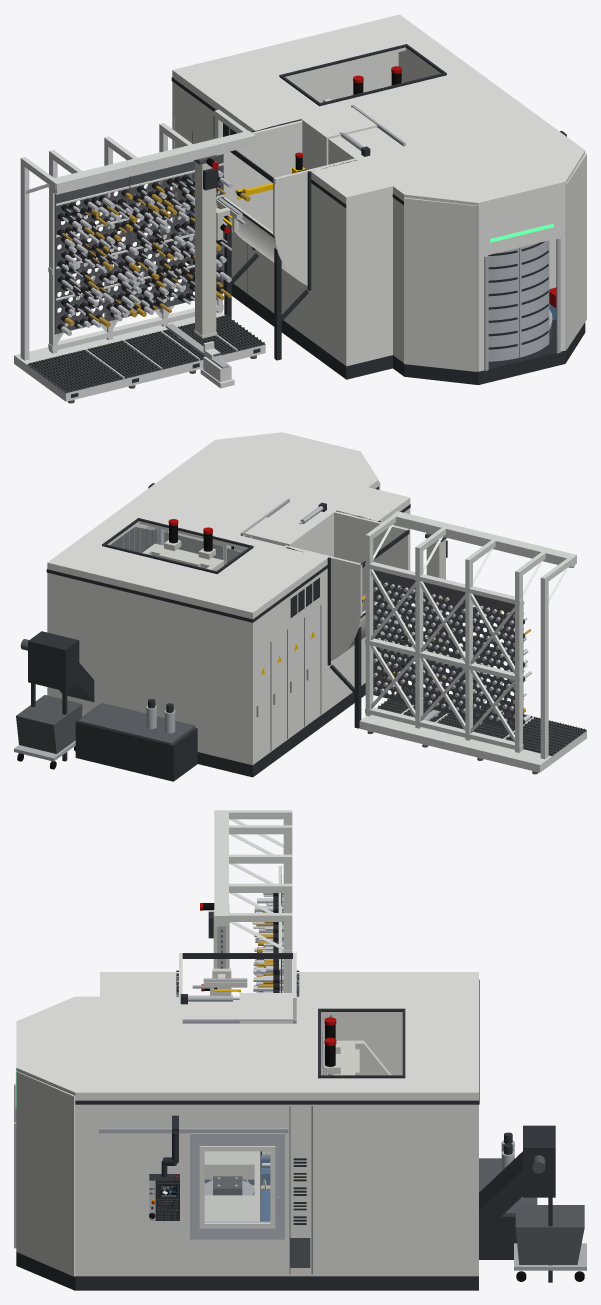
The model's file is hmc_x1200_4ax_white_right_sidemag2.glb.
The picture shows the model from 3 angles, top to bottom: view 1: azimuth 30°, elevation 25°; view 2: azimuth 150°, elevation 25°; view 3: azimuth 270°, elevation 25°; orthographic projection. The views are drawn at different scales.
Parts seen in each view (by area): view 1: enclosure__hmc_white, apc_housing__hmc_white, twm_frame__truss_white, tc_box__hmc_white, twm_frame__anthracite_lt, twm_tools__holder, twm_base__grating, twm_tools__tool_bright, enclosure__anthracite, twm_base__truss_white, mag_loader__struct_grey, apc_housing__anthracite (+10 smaller); view 2: enclosure__hmc_white, twm_frame__truss_white, twm_frame__anthracite_lt, chip_coolant__anthracite, electrical_cabinet__hmc_white, tc_box__hmc_white, enclosure__anthracite, apc_housing__hmc_white, twm_base__truss_white, twm_tools__steel, chip_cart__steel_dark, twm_base__grating (+10 smaller); view 3: enclosure__hmc_white, apc_housing__hmc_white, enclosure__anthracite, twm_frame__truss_white, chip_coolant__anthracite, operator_door__glass_clear, operator_door__door_grey, chip_cart__steel_dark, table__struct_grey, enclosure__steel, operator_door__hmc_white, column__struct_grey (+11 smaller).
Boxes of the visible parts, bbox=[...] form: enclosure__hmc_white: bbox=[172, 14, 573, 366]; apc_housing__hmc_white: bbox=[393, 142, 586, 371]; twm_frame__truss_white: bbox=[20, 109, 255, 360]; tc_box__hmc_white: bbox=[223, 120, 355, 285]; twm_frame__anthracite_lt: bbox=[54, 154, 223, 334]; twm_tools__holder: bbox=[57, 168, 224, 331]; twm_base__grating: bbox=[27, 315, 265, 393]; twm_tools__tool_bright: bbox=[61, 170, 232, 335]; enclosure__anthracite: bbox=[171, 44, 446, 379]; twm_base__truss_white: bbox=[14, 312, 265, 401]; mag_loader__struct_grey: bbox=[194, 161, 217, 338]; apc_housing__anthracite: bbox=[392, 194, 585, 384]; enclosure__hmc_white: bbox=[47, 447, 410, 765]; twm_frame__truss_white: bbox=[365, 511, 576, 759]; twm_frame__anthracite_lt: bbox=[373, 570, 523, 730]; chip_coolant__anthracite: bbox=[28, 631, 197, 781]; electrical_cabinet__hmc_white: bbox=[254, 604, 320, 763]; tc_box__hmc_white: bbox=[287, 511, 409, 660]; enclosure__anthracite: bbox=[46, 502, 410, 777]; apc_housing__hmc_white: bbox=[205, 432, 380, 548]; twm_base__truss_white: bbox=[359, 698, 586, 772]; twm_tools__steel: bbox=[373, 581, 514, 721]; chip_cart__steel_dark: bbox=[16, 695, 82, 753]; twm_base__grating: bbox=[377, 687, 586, 755]; enclosure__hmc_white: bbox=[100, 972, 478, 1276]; apc_housing__hmc_white: bbox=[16, 996, 99, 1276]; enclosure__anthracite: bbox=[100, 970, 479, 1290]; twm_frame__truss_white: bbox=[214, 810, 292, 992]; chip_coolant__anthracite: bbox=[479, 1125, 555, 1282]; operator_door__glass_clear: bbox=[205, 1152, 269, 1221]; operator_door__door_grey: bbox=[190, 1133, 284, 1239]; chip_cart__steel_dark: bbox=[515, 1205, 584, 1264]; table__struct_grey: bbox=[204, 1151, 260, 1221]; enclosure__steel: bbox=[99, 995, 296, 1133]; operator_door__hmc_white: bbox=[199, 1146, 275, 1228]; column__struct_grey: bbox=[324, 1040, 391, 1075].
Bounding box in the file's own units: 8.57 × 3.54 × 7.86.
Materials: 23 (2 with a texture image).
